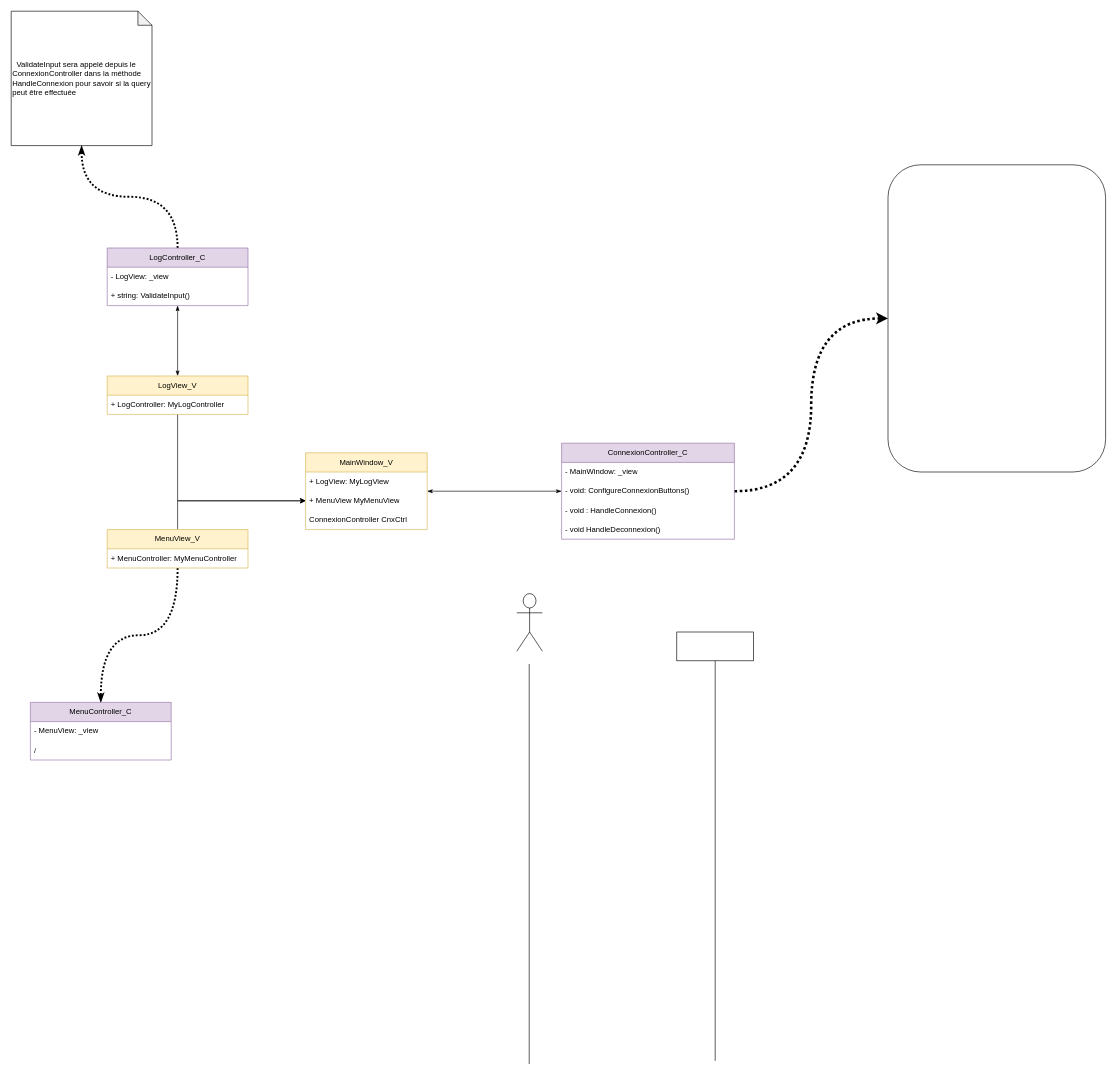
This 1117x1076 diagram has some shape labels left out. Each missing label, with the centre of its shape:
"MainWindow" belongs at (x=715, y=646).
"User" belongs at (x=529, y=622).
